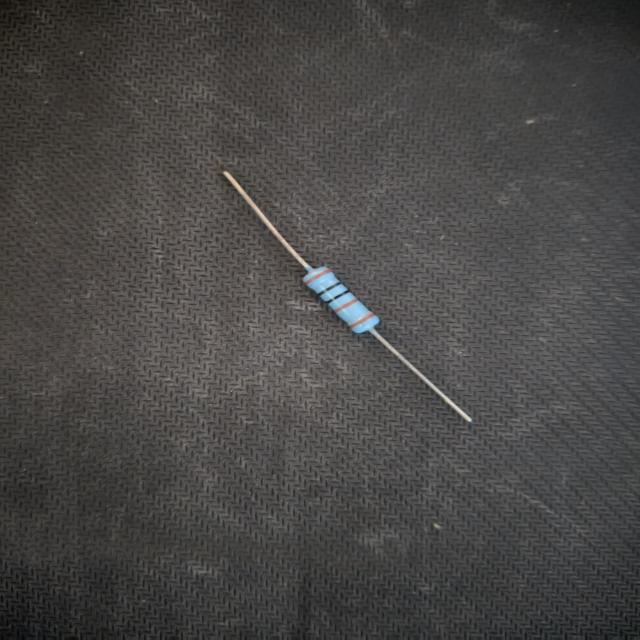resistor: (212, 162, 488, 434)
